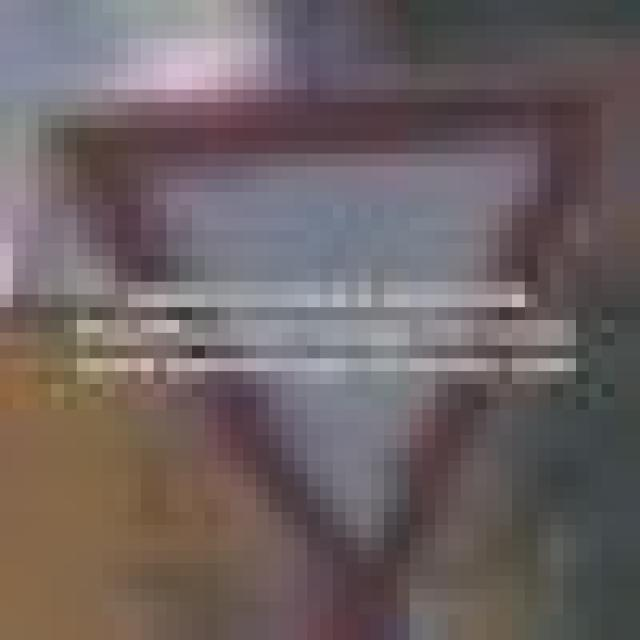gap_in_median: (38, 89, 576, 602)
